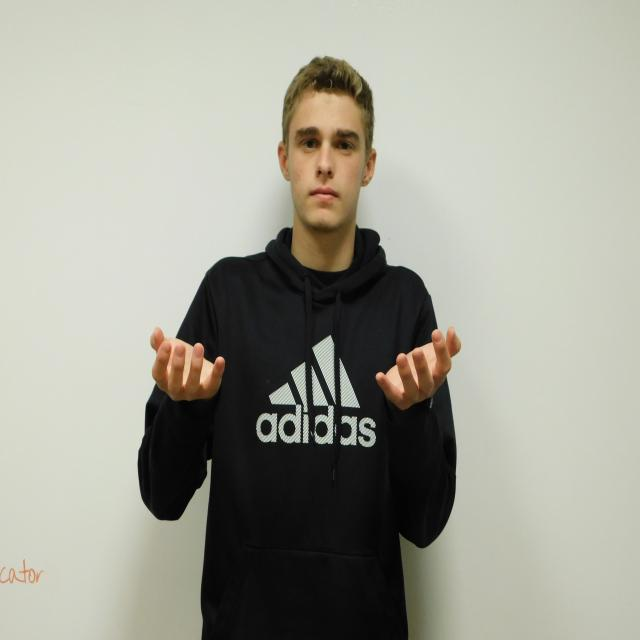want: (150, 325, 462, 409)
